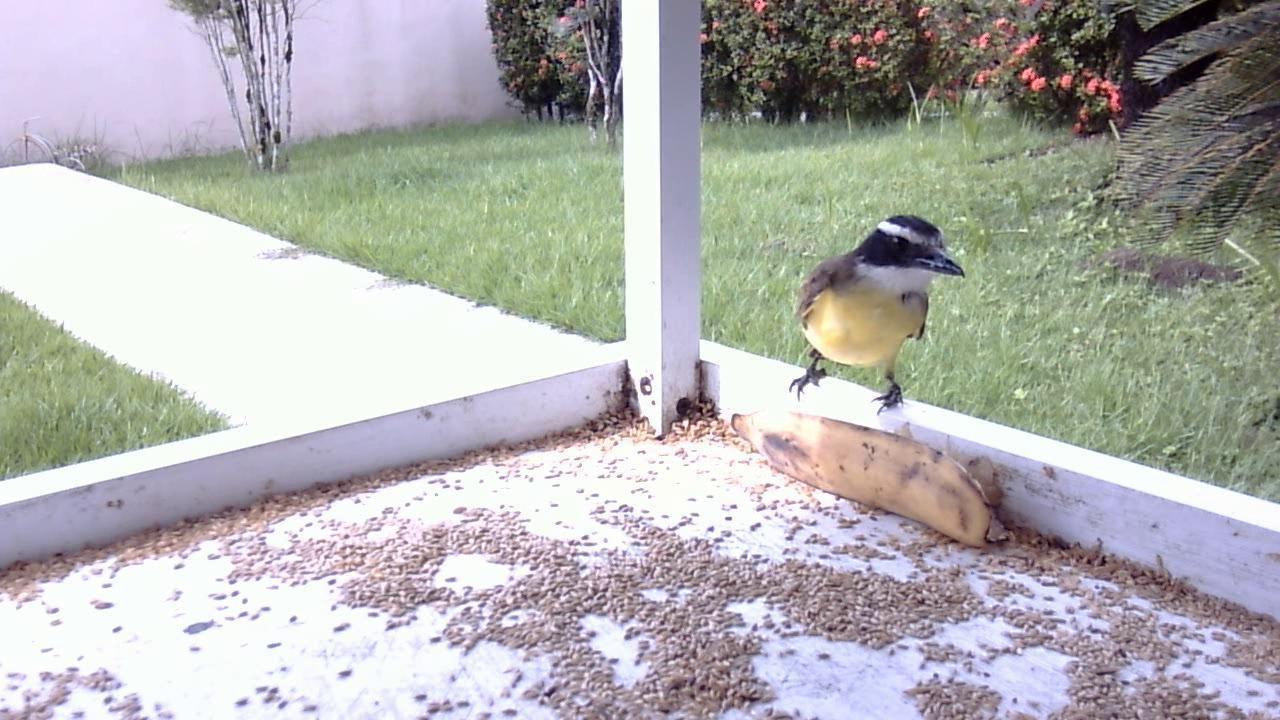bem_te_vi: (782, 212, 967, 424)
